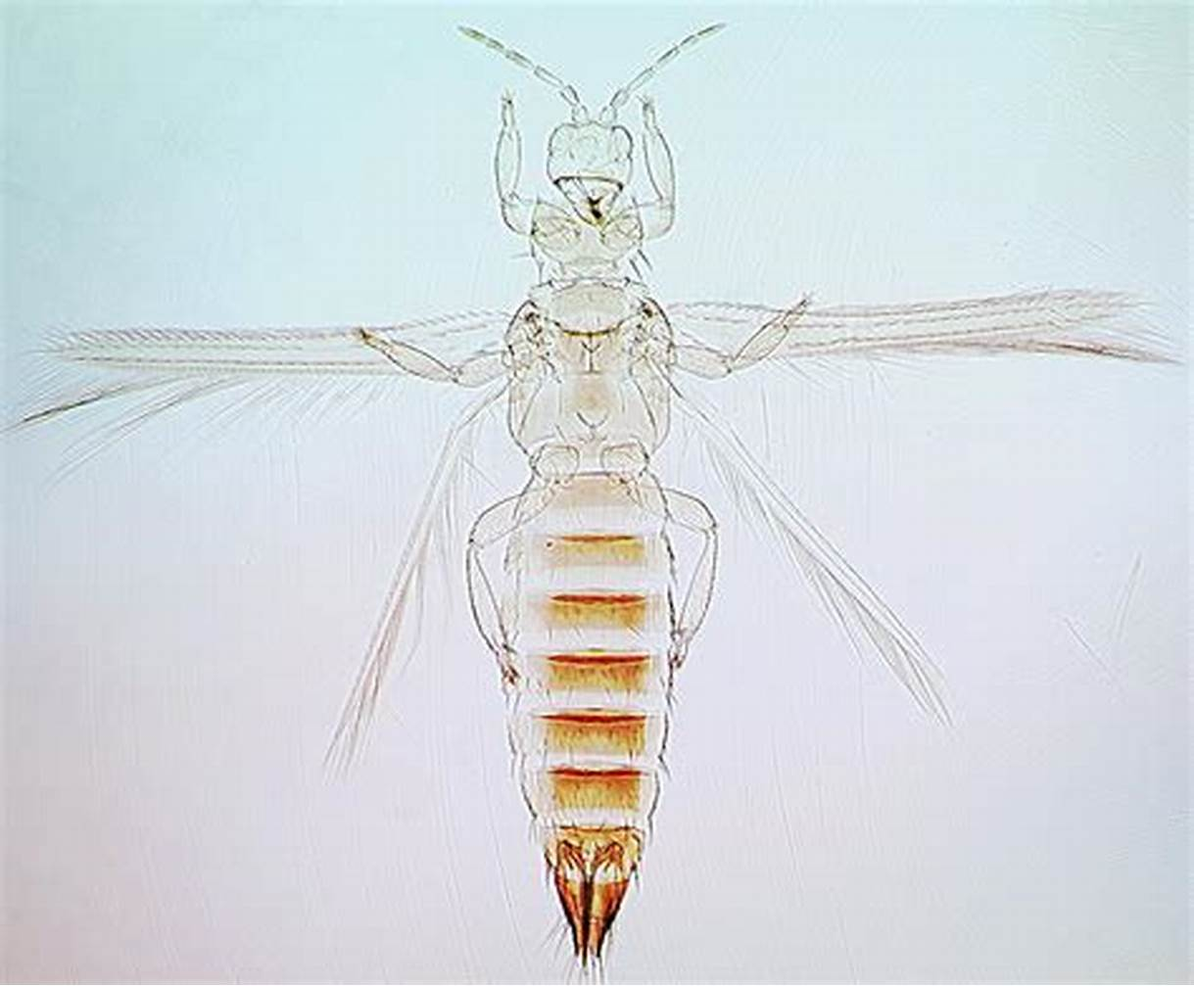Thripidae: (8, 14, 1189, 972)
